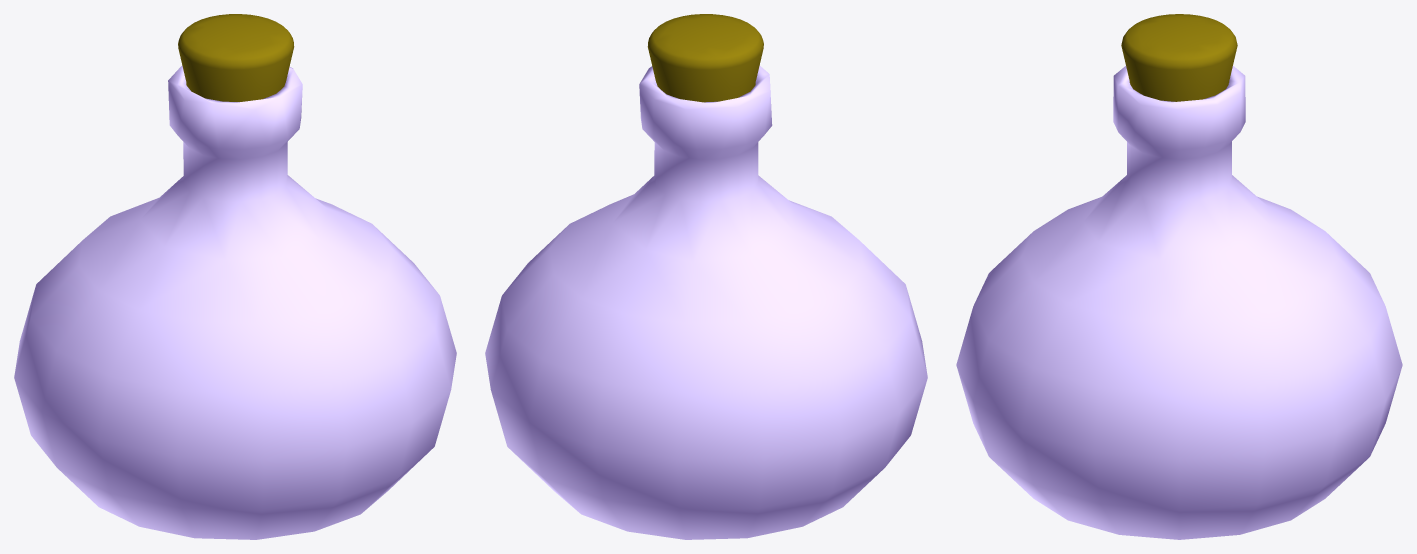
File: Poison Bottle Red.fbx
3 renders of one model, left to right at view 1: azimuth 30°, elevation 25°; view 2: azimuth 150°, elevation 25°; view 3: azimuth 270°, elevation 25°, orthographic.
Visible parts, largest first — view 1: Sphere, Bottle Cap.001; view 2: Sphere, Bottle Cap.001; view 3: Sphere, Bottle Cap.001.
Boxes of the visible parts, box(x1,y1,x2,y2) form: Sphere: box(14, 66, 456, 539); Bottle Cap.001: box(178, 14, 294, 101); Sphere: box(485, 66, 927, 539); Bottle Cap.001: box(647, 14, 763, 102); Sphere: box(956, 66, 1402, 539); Bottle Cap.001: box(1121, 14, 1237, 101).
Bounding box in the file's own units: 558 × 636 × 558.
